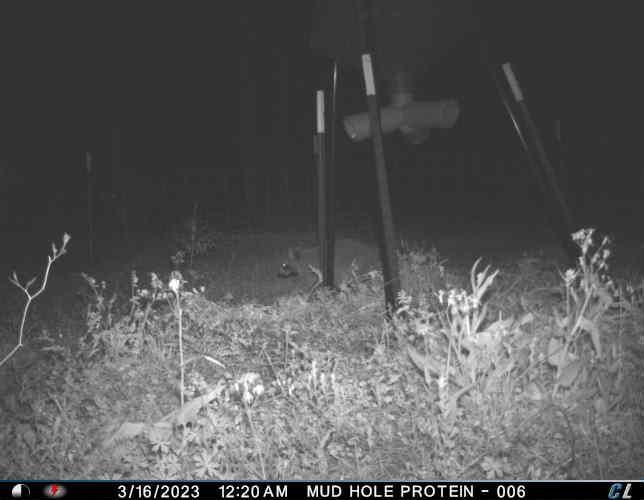Raccoon: (276, 236, 381, 292)
